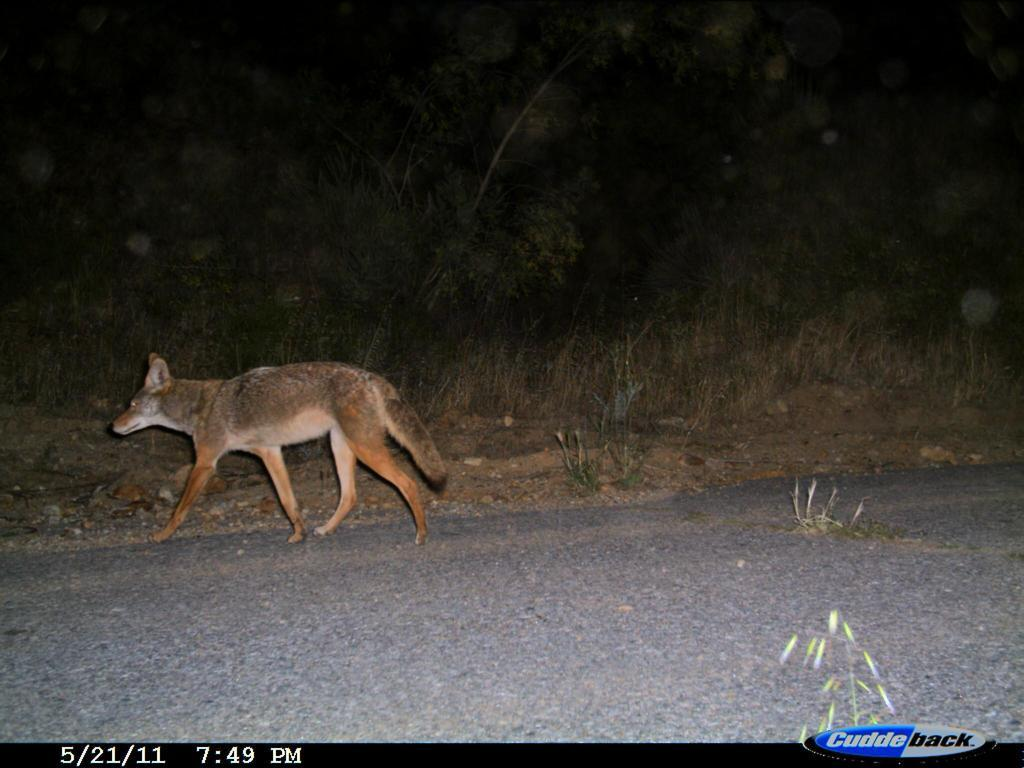coyote: (102, 332, 460, 573)
